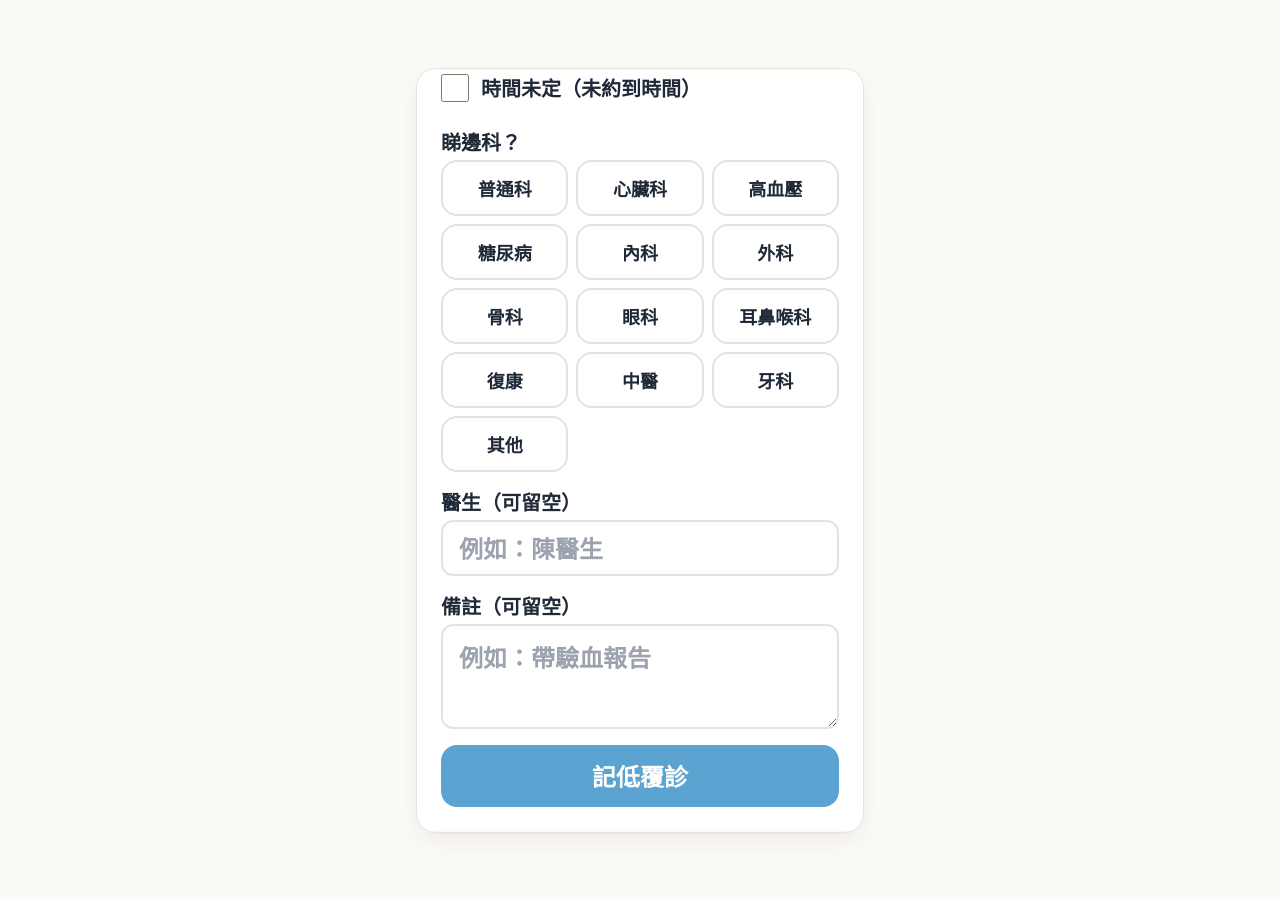
Test: AppointmentModal › 必填校驗：缺日期或地點 → 錯誤提示，不寫入
(page scrolled)
Click the button "記低覆診" at (640, 776), box top-left (441, 745), bottom-right (839, 807)
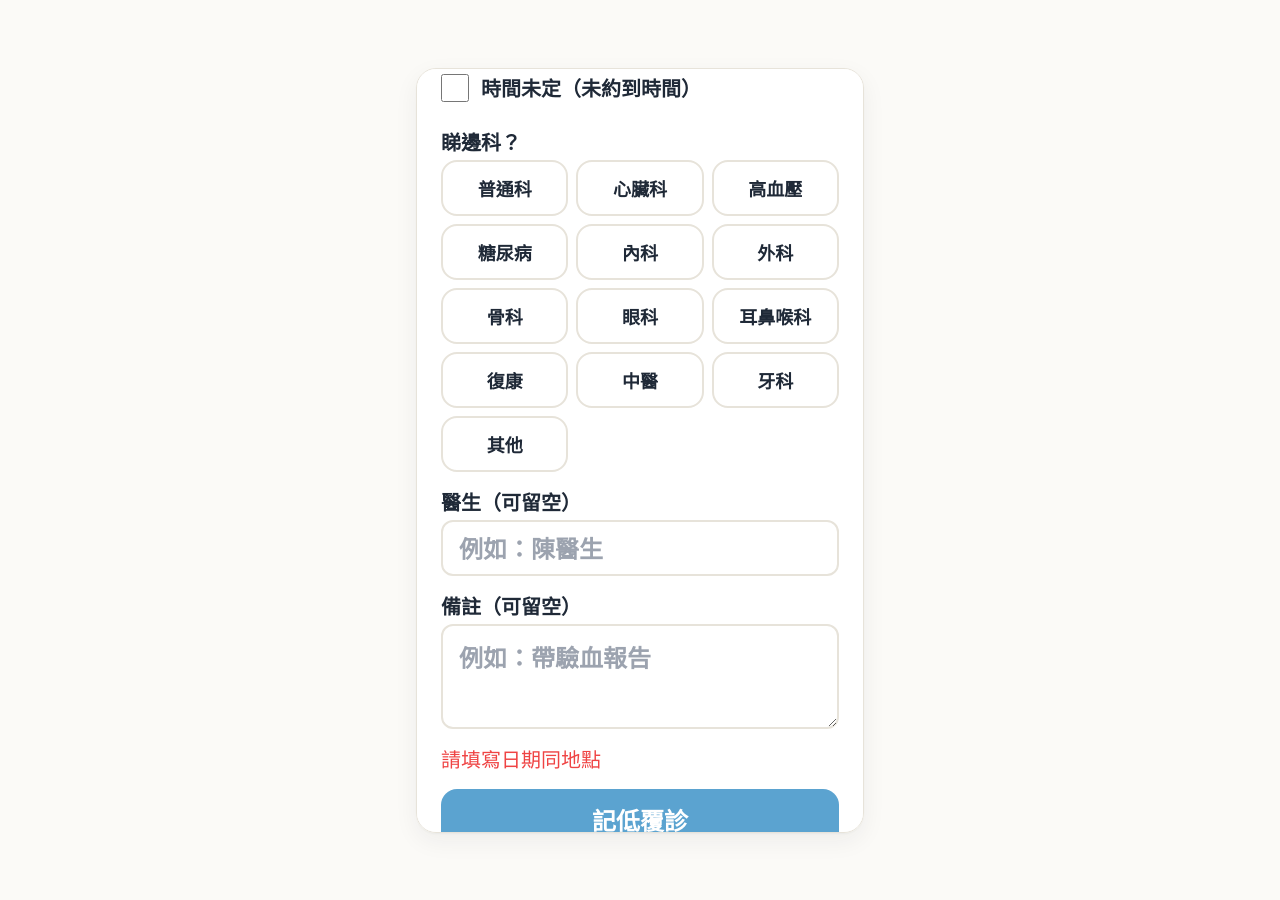
Expected: the message reads "請填寫日期同地點", top-left (441, 744), bottom-right (601, 773)
